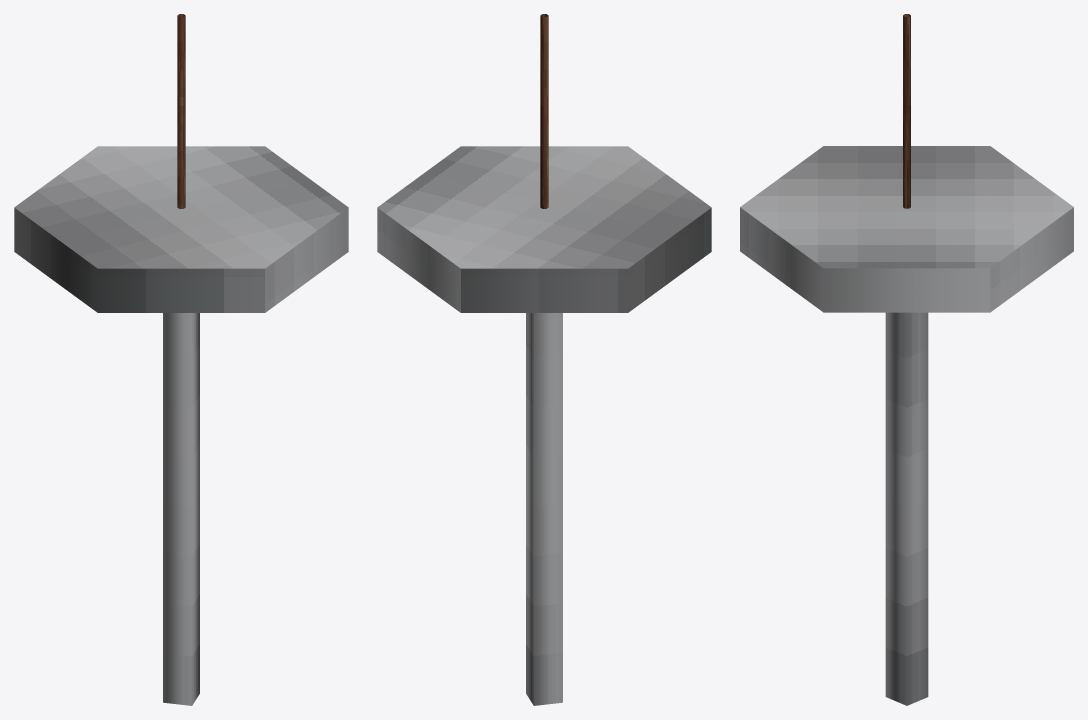
Rendered from Chimes.fbx.
3 renders of one model, left to right at view 1: azimuth 30°, elevation 25°; view 2: azimuth 150°, elevation 25°; view 3: azimuth 270°, elevation 25°, orthographic.
Visible parts, largest first — view 1: ChimeHolder, Chime; view 2: ChimeHolder, Chime; view 3: ChimeHolder, Chime.
Boxes of the visible parts, x1=… form: ChimeHolder: x1=14, y1=14, x2=348, y2=312; Chime: x1=163, y1=313, x2=199, y2=705; ChimeHolder: x1=377, y1=14, x2=711, y2=312; Chime: x1=526, y1=313, x2=562, y2=705; ChimeHolder: x1=740, y1=14, x2=1073, y2=312; Chime: x1=885, y1=312, x2=928, y2=705.
Bounding box in the file's own units: 50.11 × 130 × 57.86.
